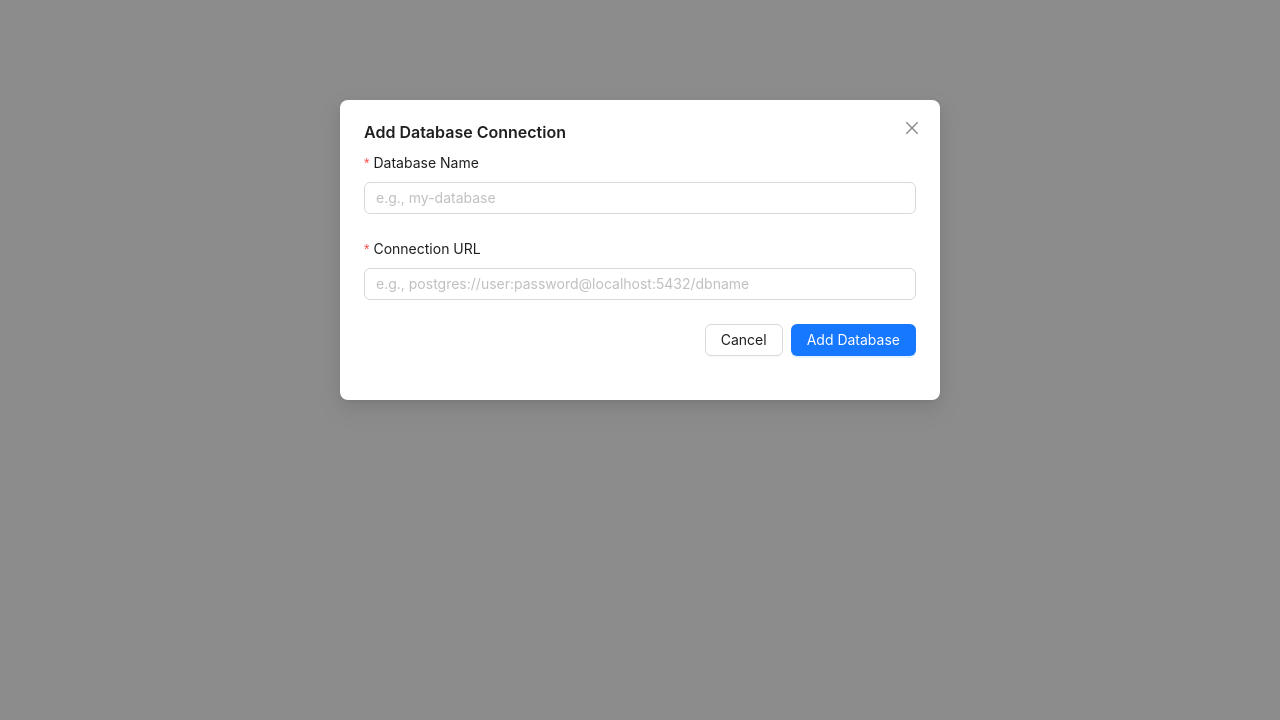
Test: AddDatabaseForm › validates required fields
Click the button "Add Database" at (853, 340), box [791, 324, 916, 356]
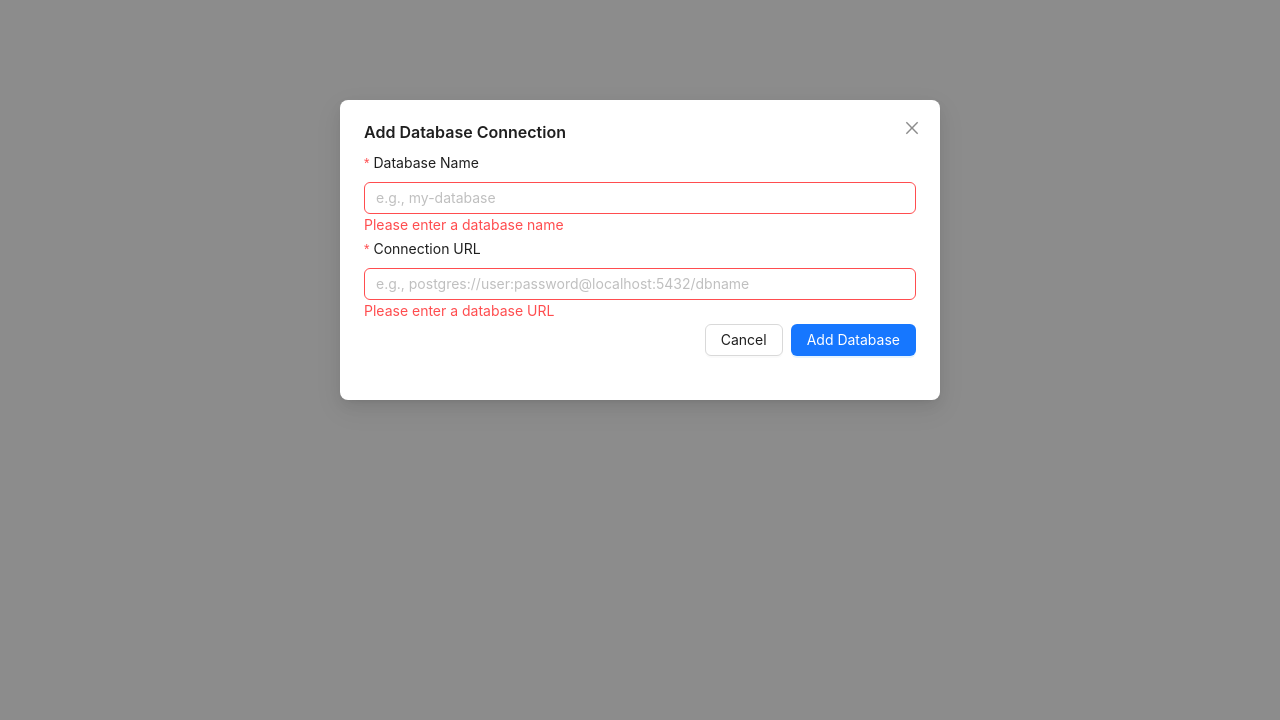
Result: the text "Please enter a database name" is shown at [364, 216, 564, 233]
